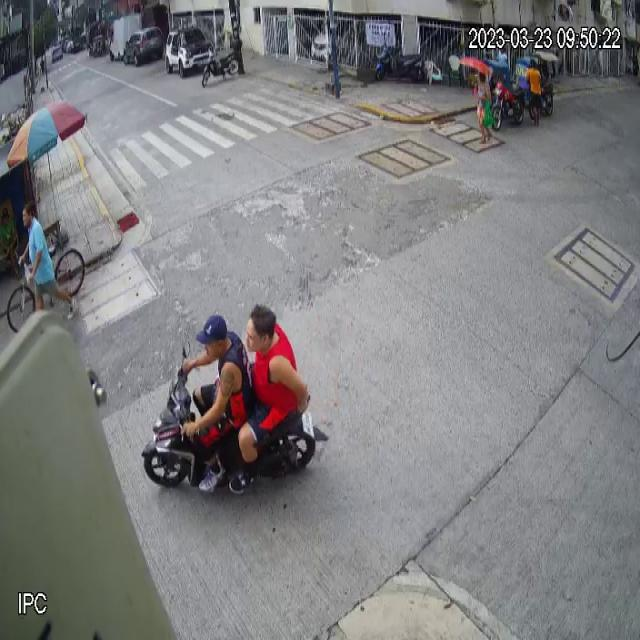Motorcycle: (142, 340, 319, 493)
